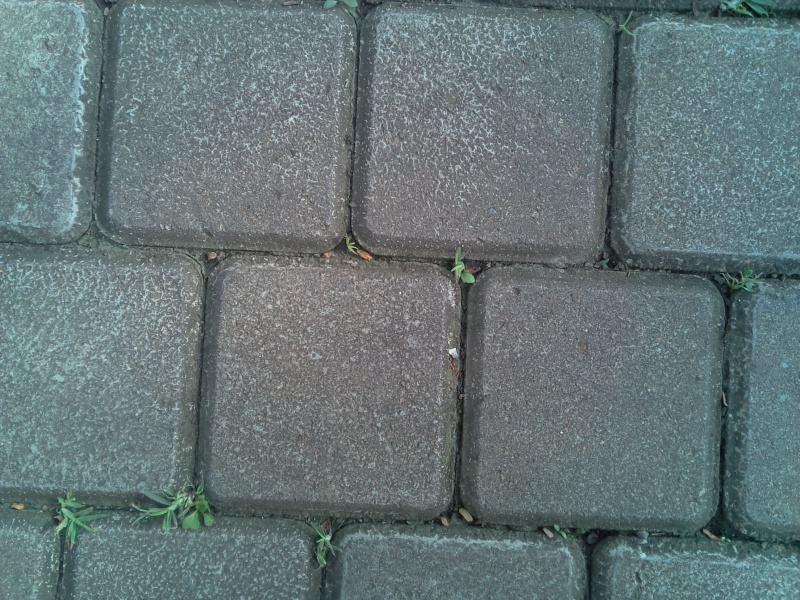Weed: (43, 490, 106, 549), (136, 478, 187, 538), (179, 493, 222, 536), (303, 520, 339, 570), (447, 245, 482, 292), (722, 265, 764, 304), (338, 230, 364, 261), (613, 11, 638, 39), (548, 518, 570, 542)
